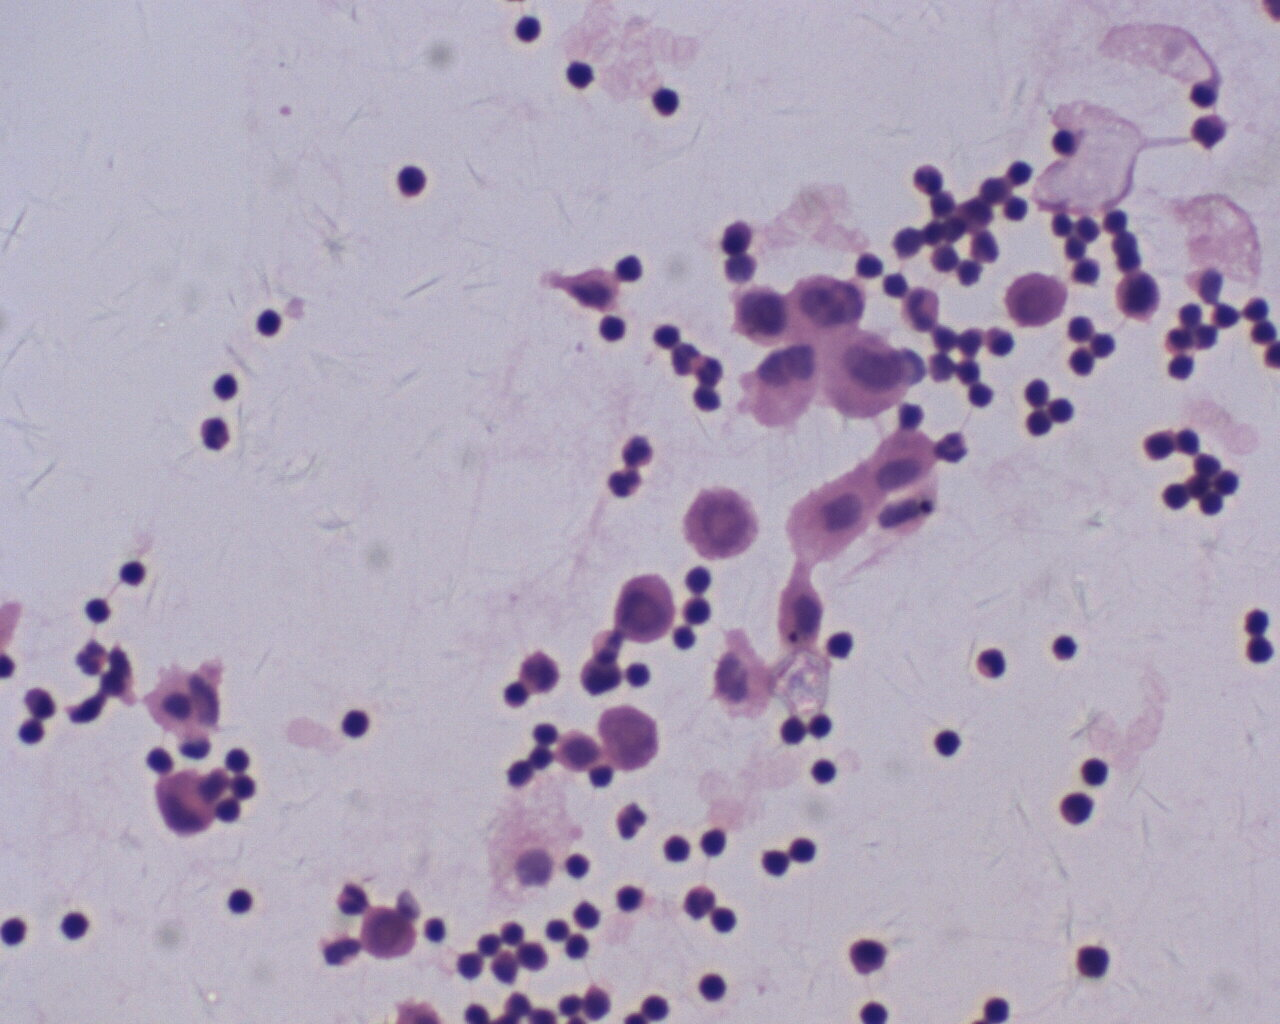ab: (820, 329, 911, 419), (680, 486, 761, 562), (597, 697, 662, 776), (724, 276, 791, 349), (612, 574, 679, 642), (1002, 270, 1068, 329), (355, 905, 420, 960), (1107, 270, 1164, 320)
lymph: (508, 9, 550, 52), (694, 965, 731, 1009), (113, 555, 152, 594), (657, 829, 695, 866), (57, 906, 94, 945), (788, 832, 821, 869), (222, 883, 255, 918), (392, 165, 428, 197), (928, 728, 965, 760), (1079, 753, 1111, 789), (1053, 632, 1080, 670), (650, 86, 681, 118), (342, 708, 372, 740), (254, 304, 283, 336), (614, 253, 643, 282), (806, 757, 836, 783)
meso: (867, 427, 939, 495)
neutro: (609, 465, 650, 504), (72, 637, 113, 676), (976, 647, 1010, 682)
